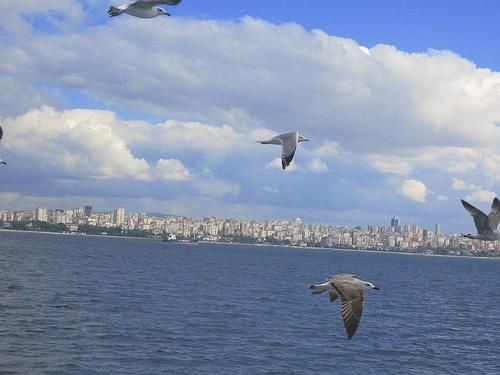bird: (311, 273, 383, 344), (256, 131, 309, 171), (461, 198, 500, 243), (107, 1, 186, 21)
